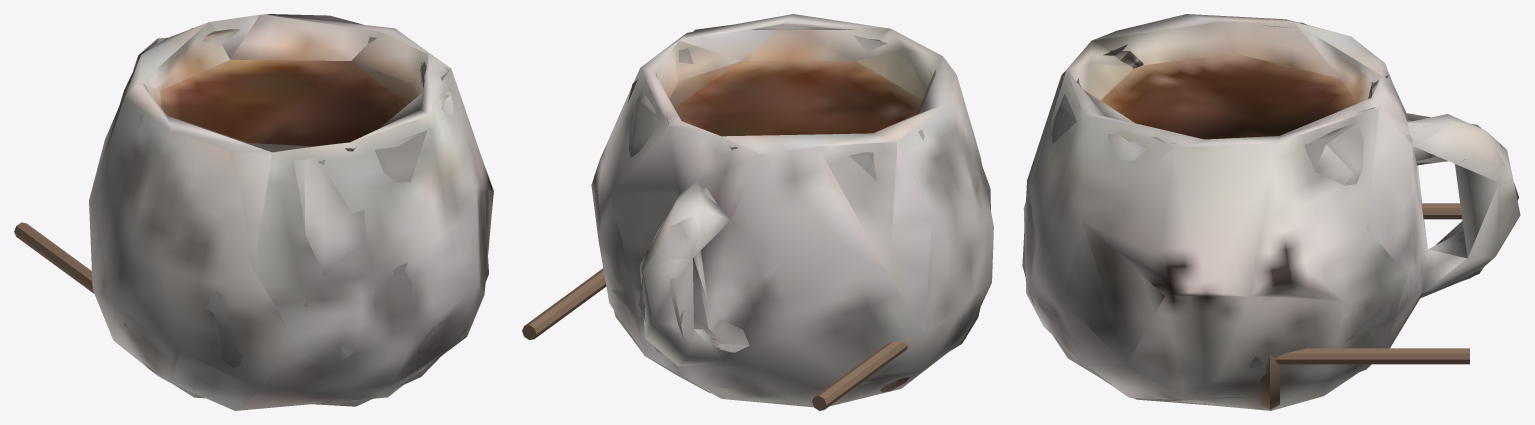
The model's file is accessories.b3055046.glb.
The picture shows the model from 3 angles, left to right: view 1: azimuth 30°, elevation 25°; view 2: azimuth 150°, elevation 25°; view 3: azimuth 270°, elevation 25°; orthographic projection. The views are drawn at different scales.
Visible parts, largest first — view 1: mug, glasses; view 2: mug, glasses; view 3: mug, glasses.
Part boxes in pixels (bbox=[...]): mug: bbox=[89, 14, 493, 410]; glasses: bbox=[14, 222, 94, 293]; mug: bbox=[591, 14, 993, 407]; glasses: bbox=[522, 268, 909, 410]; mug: bbox=[1022, 14, 1520, 410]; glasses: bbox=[1260, 203, 1469, 409].
Bounding box in the file's own units: 0.1441 × 0.1098 × 0.1745.
Materials: 2 (1 with a texture image).
